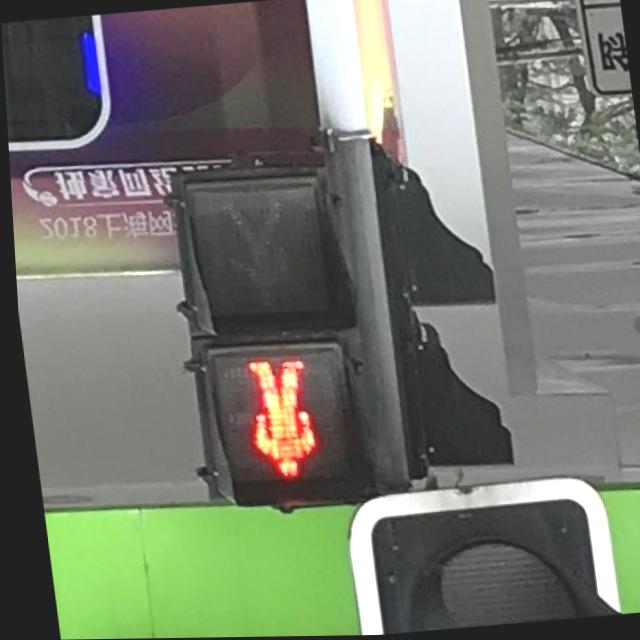red_light: (221, 350, 322, 498)
